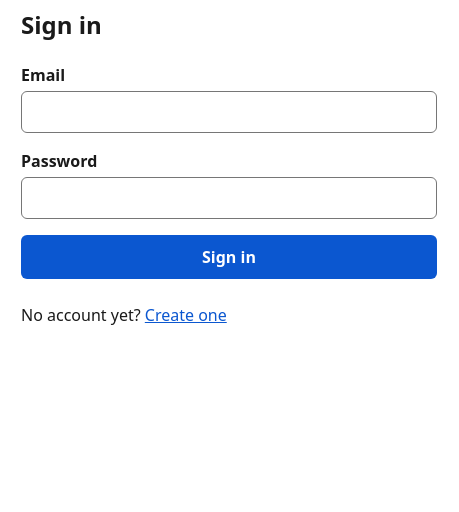
Test: LoginPage › validation before sending › rejects something that is not an email address
The image size is (459, 512).
Type "not-an-email" into the field labelled "Email" at (229, 112), box [21,91,437,133]
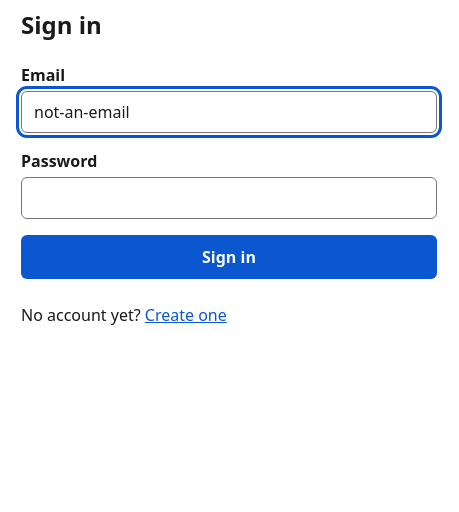
Type "secret-pass" into the password field labelled "Password" at (229, 198), box [21,177,437,219]
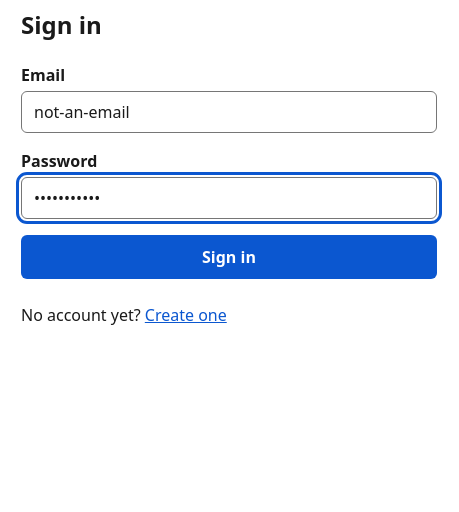
Click the button "Sign in" at (229, 257), box [21,235,437,279]
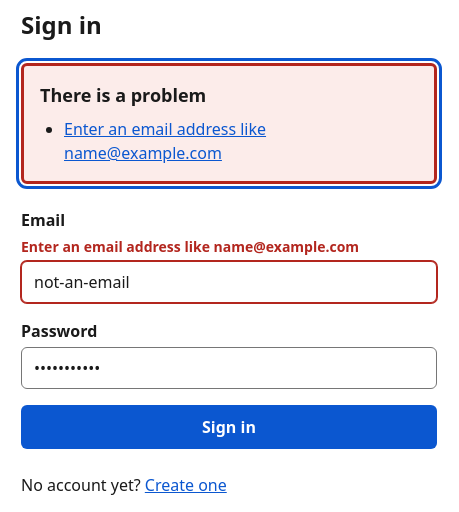
Check: the link "Enter an email address like name@example.com" is shown, box [64,118,266,164]
